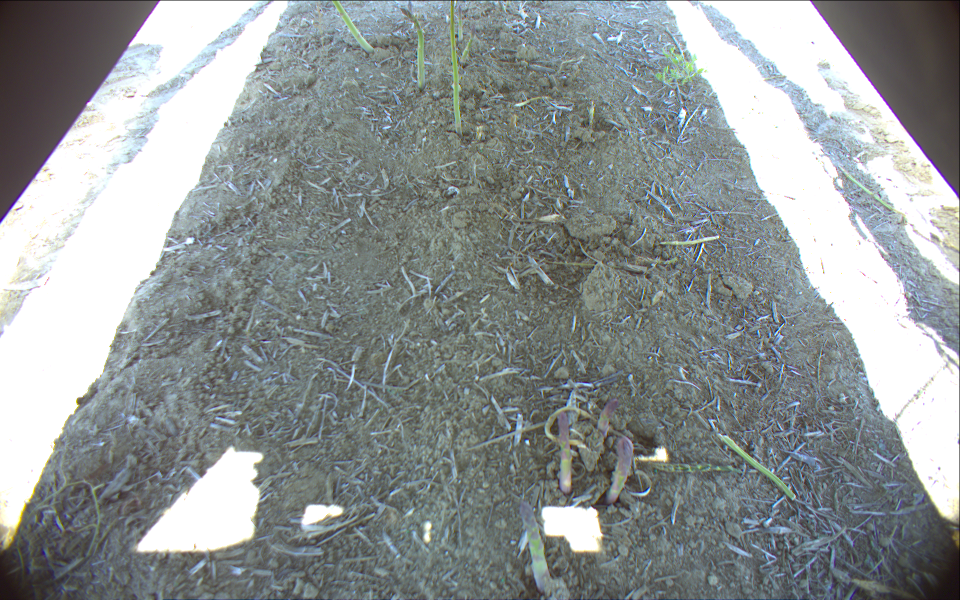aspa: (512, 496, 556, 597), (394, 4, 427, 91), (331, 1, 377, 58), (449, 1, 466, 140), (604, 436, 635, 509), (555, 408, 573, 494)
